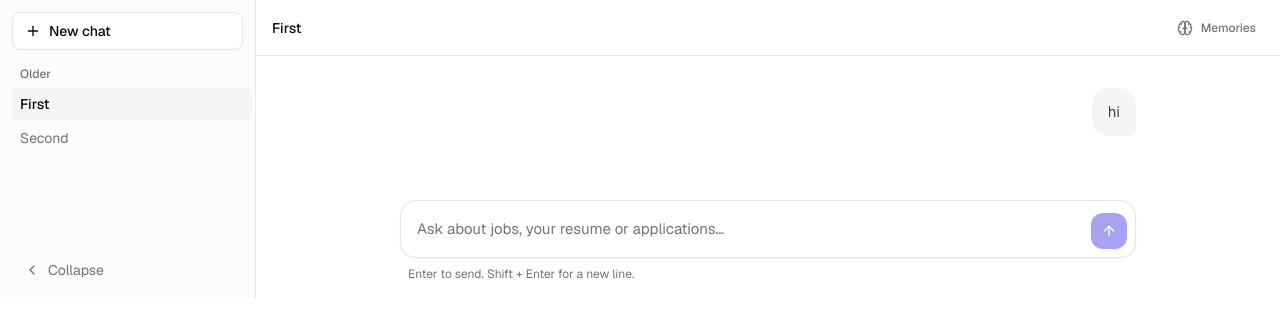
Test: AgentShell › collapses and expands the desktop sidebar
Click the button with aria-label "Hide chats" at [128, 270], box 12,254 -> 243,286
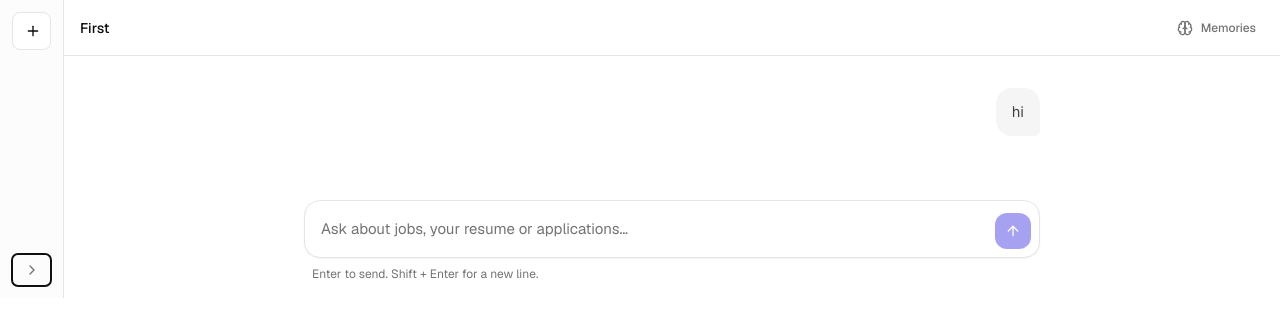
Expected: the button named "New chat" is shown, 12,12 -> 51,50
Expected: the button "Second" is gone
Expected: the button named "Show chats" is collapsed
Click the button named "Show chats" at [32, 270], box 12,254 -> 51,286
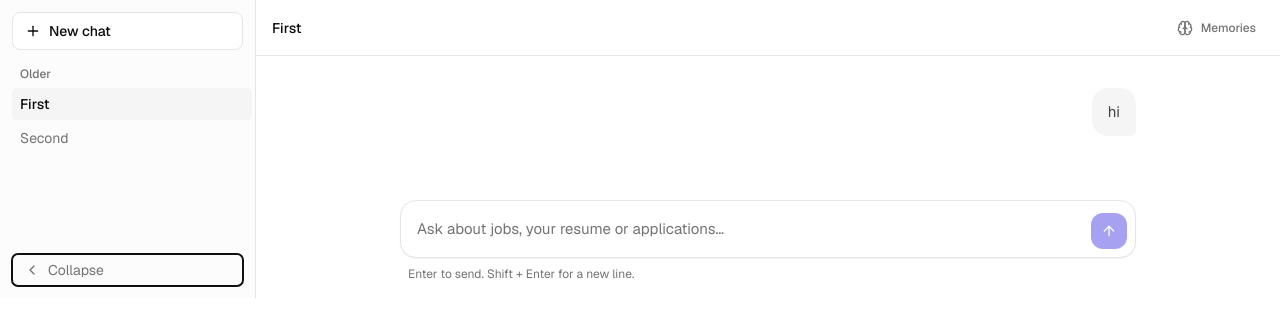
Expected: the button "Second" is shown, 12,122 -> 188,154
